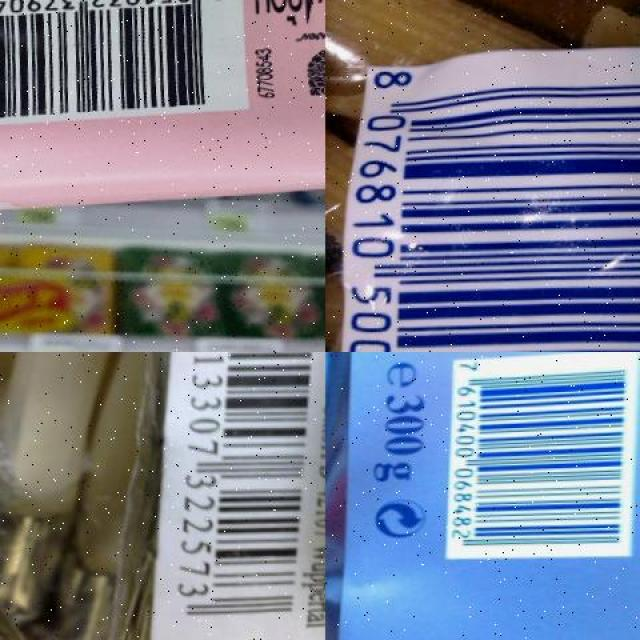Barcode: (342, 45, 640, 351), (171, 352, 325, 632), (446, 351, 640, 561), (0, 0, 245, 122)
